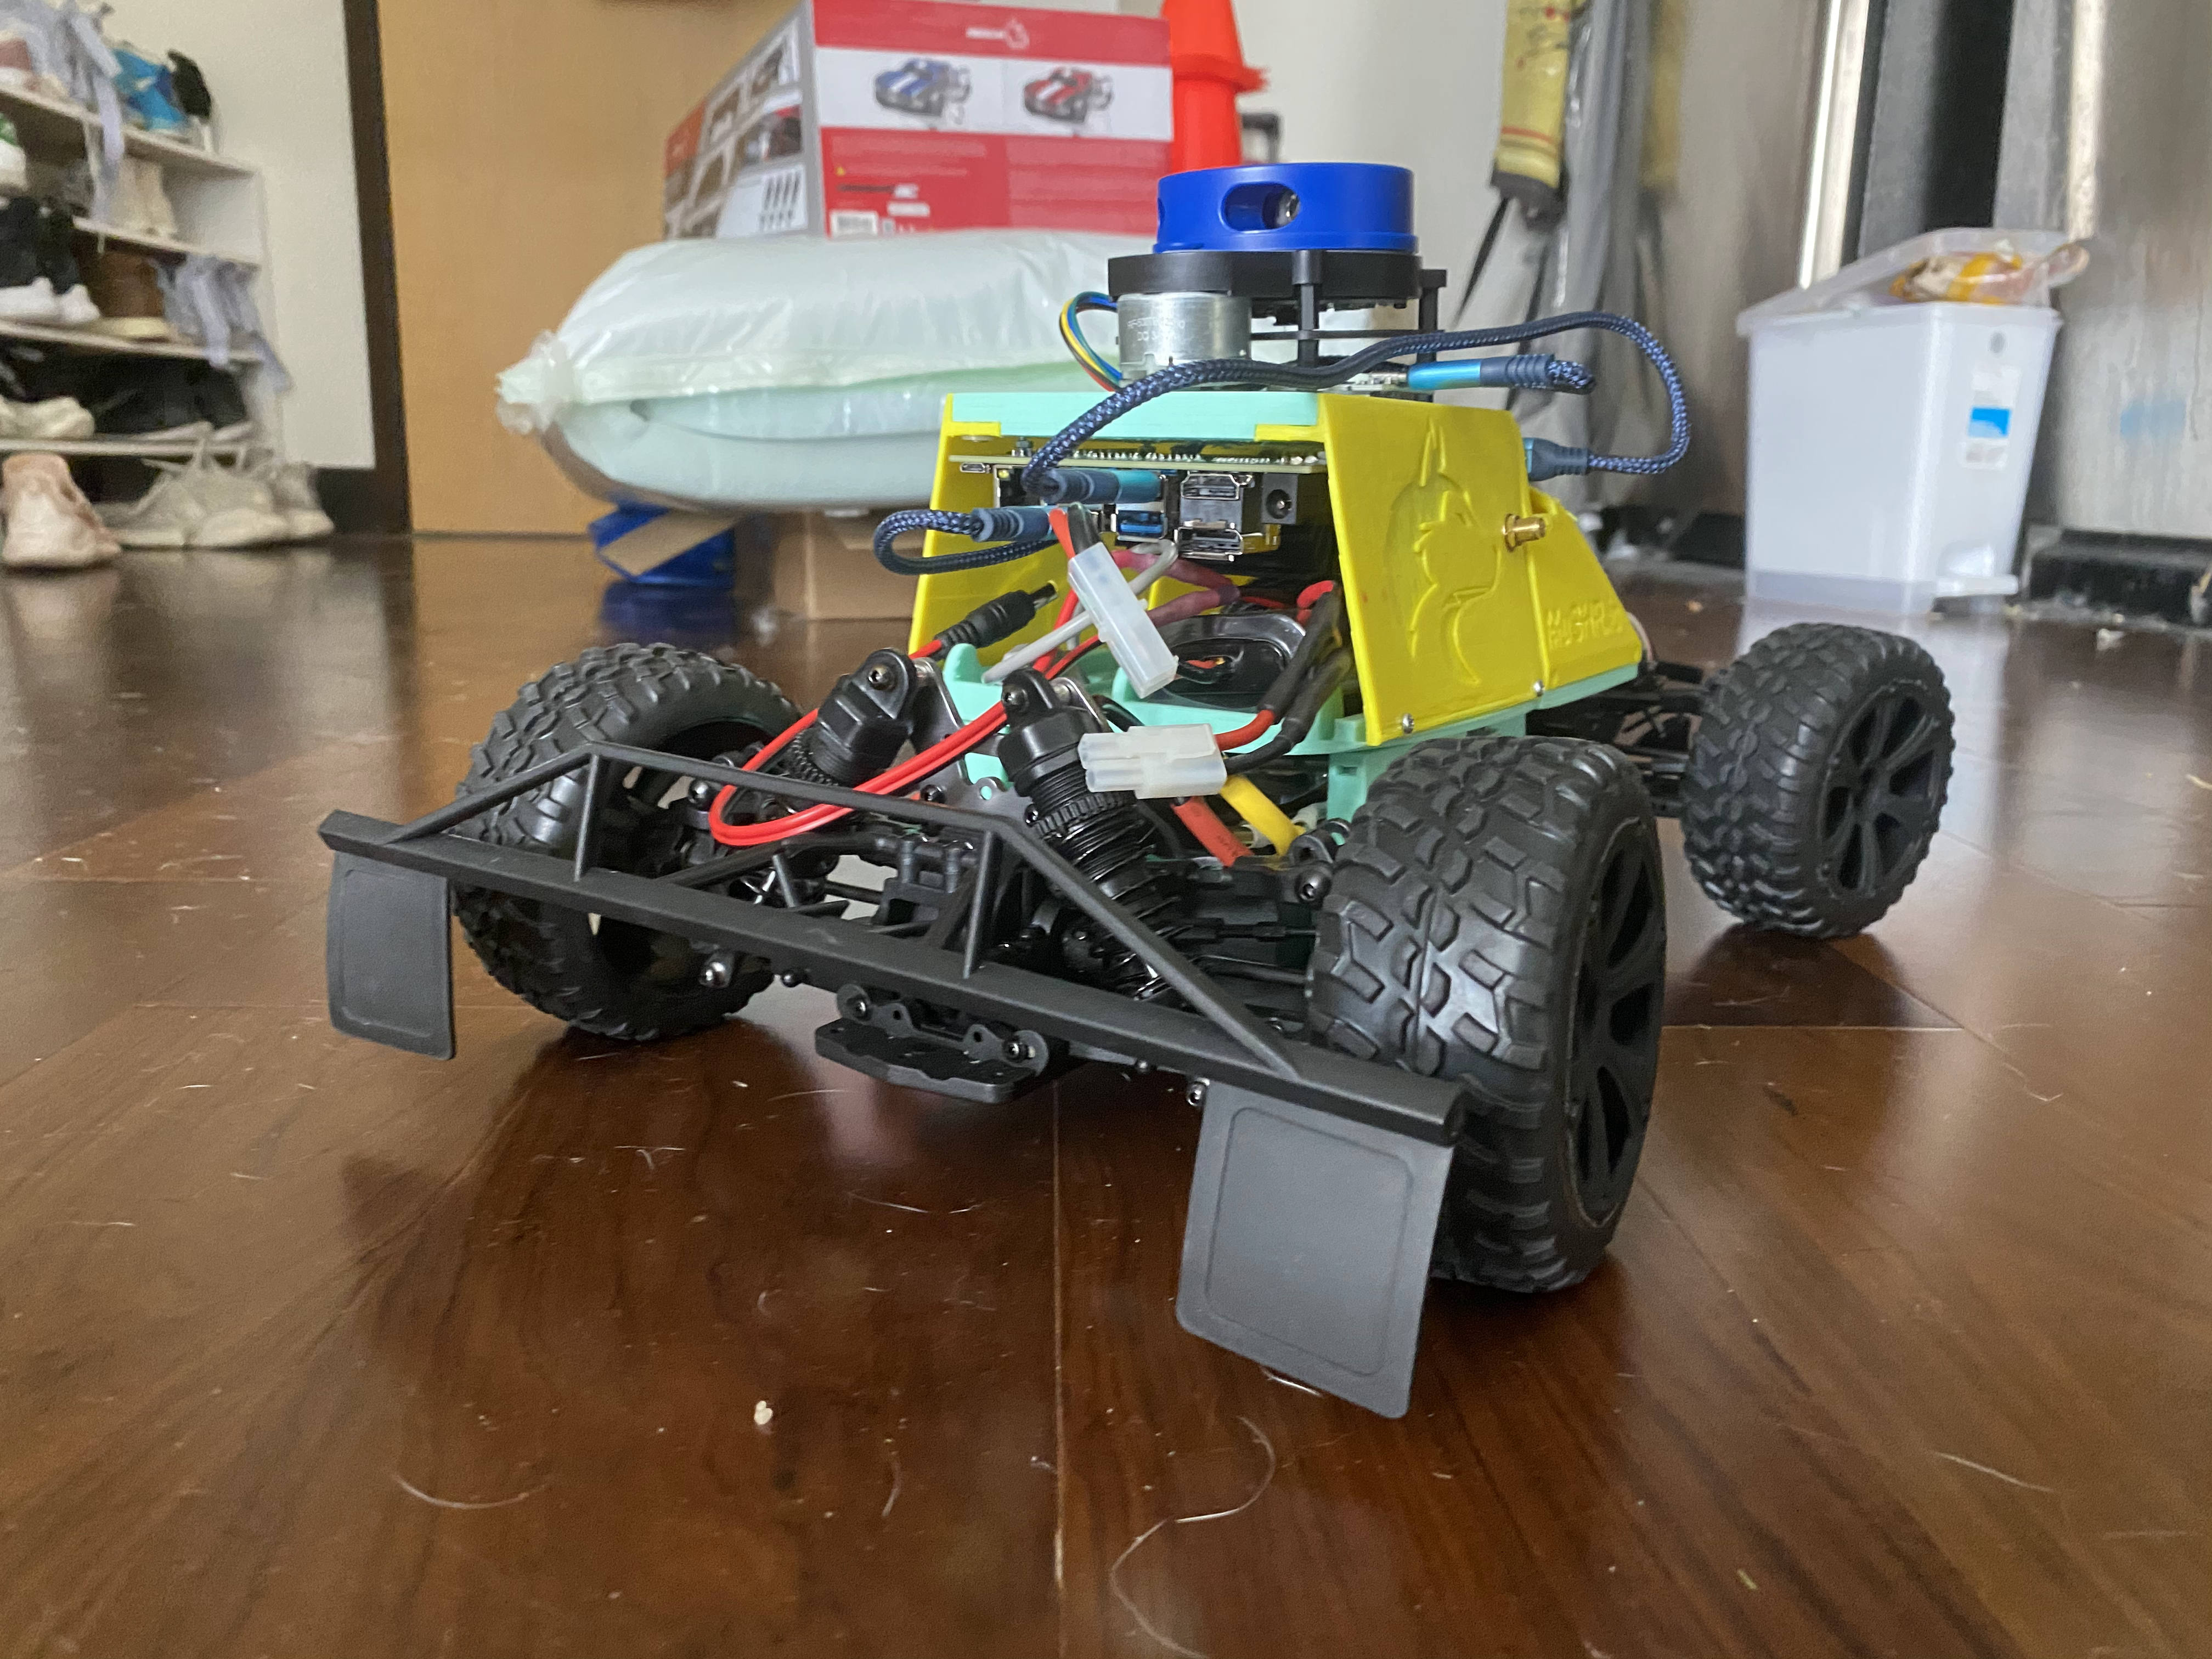mushr_car: (340, 143, 1973, 1412)
